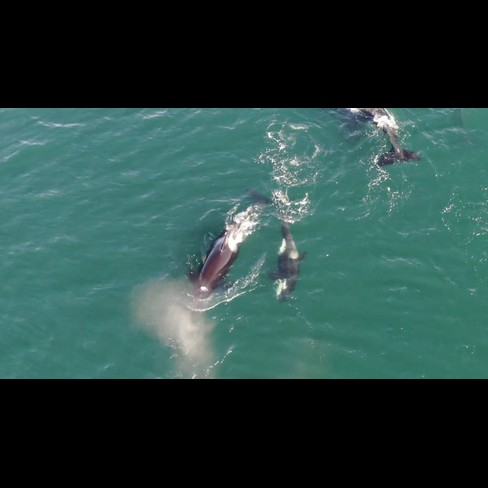orca: (170, 170, 280, 350), (328, 109, 429, 168), (274, 180, 313, 305)
